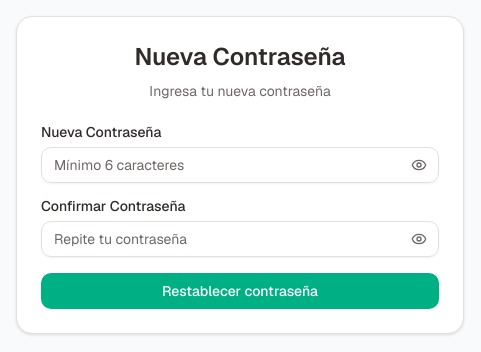
ResetPasswordConfirmPage › should show success message after password update
The width and height of the screenshot is (481, 352).
Type "newpassword123" into the password field labelled "Nueva Contraseña". click: coordinates (240, 165)
box: [41, 147, 439, 183]
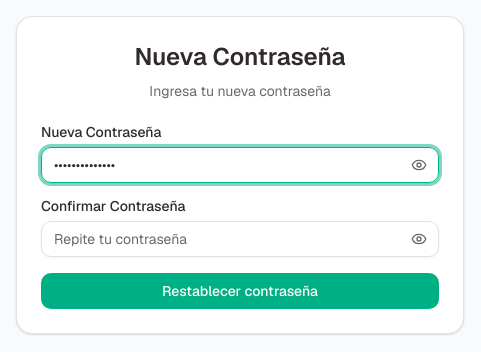
Type "newpassword123" into the password field labelled "Confirmar Contraseña". click: coordinates (240, 239)
box: [41, 221, 439, 257]
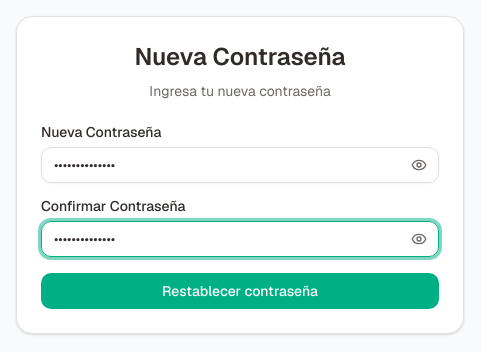
Click the button "Restablecer contraseña". click: coordinates (240, 291)
box: [41, 273, 439, 309]
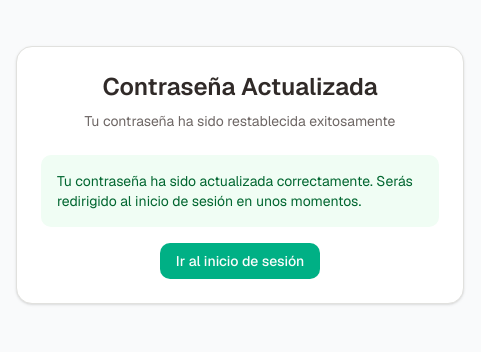
Result: the text "Contraseña Actualizada" is shown at [102, 71, 378, 102]
Result: the text "Tu contraseña ha sido actualizada correctamente" is shown at [57, 172, 413, 210]
